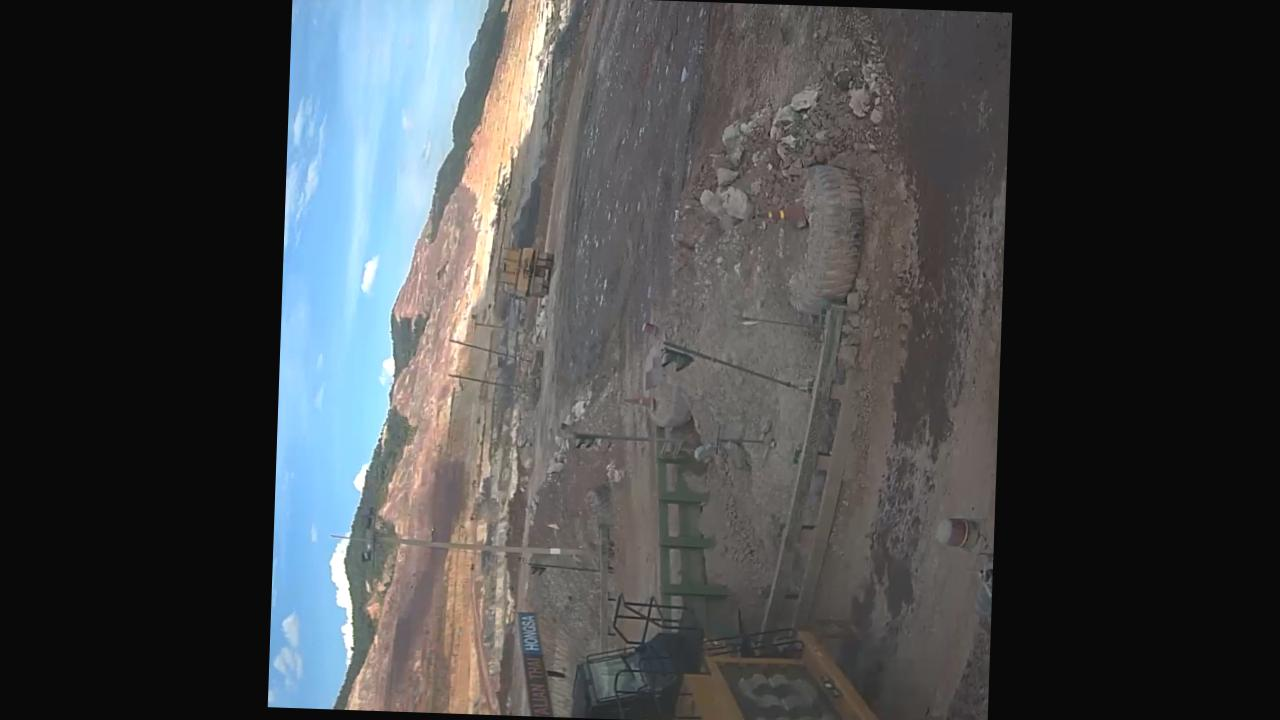front_number: (737, 662, 839, 720)
mining_truck: (514, 601, 965, 720)
